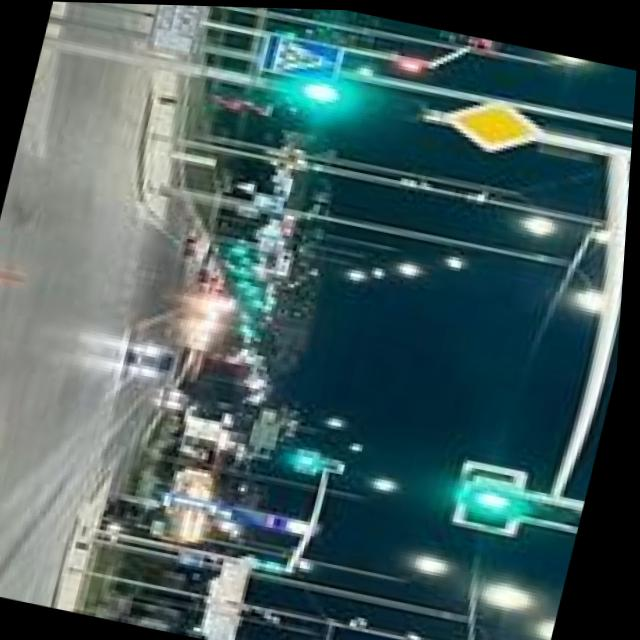green_light: (279, 56, 375, 121), (291, 420, 340, 496), (475, 477, 535, 534)
